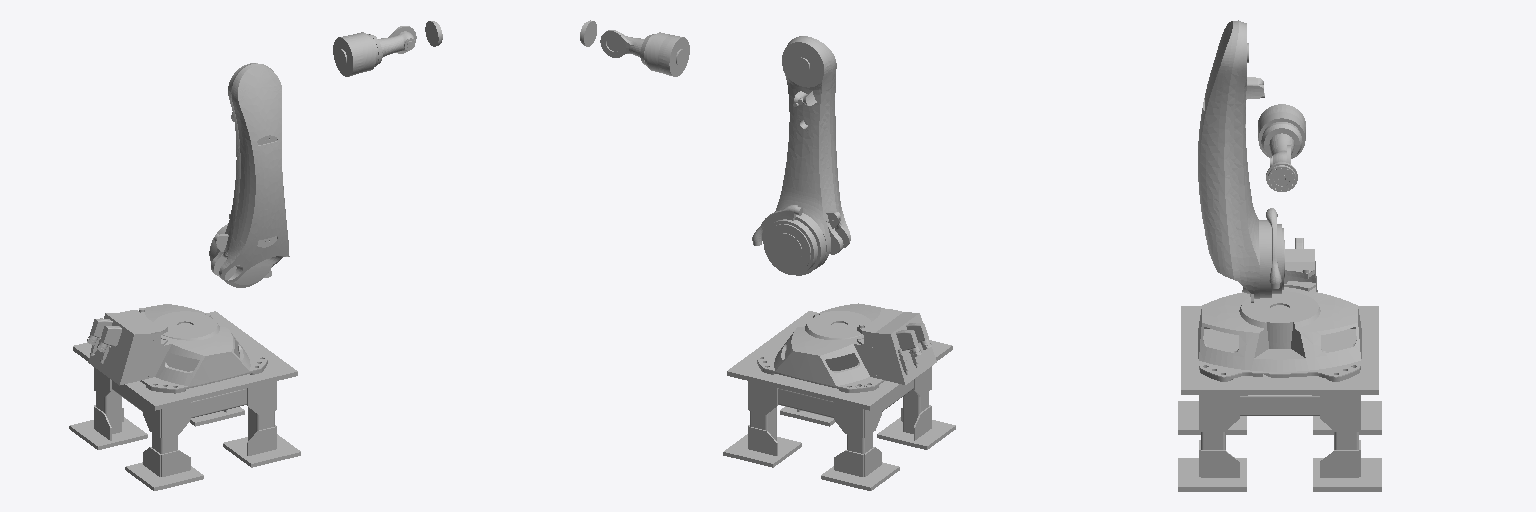
The robot description file, URDF, robot "kuka_kr210_r2700":
<?xml version="1.0" ?>
<robot name="kuka_kr210_r2700" xmlns:xacro="http://wiki.ros.org/xacro">


  <!--URDF FOR BASE LINK -->
  <link name="dekuka">

      <inertial>
        <origin rpy="0 0 0" xyz="-0.017956 -1.5237E-05 0.00015484"/>
        <mass value="6.3154"/>
        <inertia ixx="0.031746" ixy="1.7673E-07" ixz="-6.6558E-06" iyy="0.016686" iyz="1.4304E-07" izz="0.016723"/>
      </inertial>

      <visual>
        <origin rpy="0 0 0" xyz="0.0 0.0 -0.03"/>
        <geometry>
          <mesh filename="package://kuka_kr210_r2700_extra_description/meshes/visual/dekuka.dae"/>
        </geometry>
        <material name="">
          <color rgba="0.75294 0.75294 0.75294 1"/>
        </material>
      </visual>

      <collision>
        <origin rpy="0 0 0" xyz="0.0 0.0 -0.03"/>
        <geometry>
          <mesh filename="package://kuka_kr210_r2700_extra_description/meshes/collision/dekuka.stl"/>
        </geometry>
      </collision>
  </link>
  <link name="base_link">

    <inertial>
      <origin rpy="0 0 0" xyz="-0.027804 0.00039112 0.14035"/>
      <mass value="1572.9"/>
      <inertia ixx="89.282" ixy="-0.47721" ixz="0.85562" iyy="107.51" iyz="0.0067576" izz="172.02"/>
    </inertial>

    <visual>
      <origin rpy="0 0 0" xyz="0 0 0"/>
      <geometry>
        <mesh filename="package://kuka_kr210_r2700_description/meshes/visual/Base_link.dae"/>
      </geometry>
      <material name="">
        <color rgba="0.75294 0.75294 0.75294 1"/>
      </material>
    </visual>

    <collision>
      <origin rpy="0 0 0" xyz="0 0 0"/>
      <geometry>
        <mesh filename="package://kuka_kr210_r2700_description/meshes/collision/base.STL"/>
      </geometry>
    </collision>
    
  </link>
  <!--URDF ROR LINK 1 -->
  <link name="link_1">

    <inertial>
      <origin rpy="0 0 0" xyz="-0.036811 -0.024697 0.56577"/>
      <mass value="1385.5"/>
      <inertia ixx="90.873" ixy="33.809" ixz="17.159" iyy="147.03" iyz="0.063634" izz="168.19"/>
    </inertial>

    <visual>
      <origin rpy="0 0 0" xyz="0 0 -0.35"/>
      <geometry>
        <mesh filename="package://kuka_kr210_r2700_description/meshes/visual/A1.dae"/>
      </geometry>
      <material name="">
        <color rgba="0.75294 0.75294 0.75294 1"/>
      </material>
    </visual>
    
    <collision>
      <origin rpy="0 0 0" xyz="0 0 -0.35"/>
      <geometry>
        <mesh filename="package://kuka_kr210_r2700_description/meshes/collision/A1.STL"/>
      </geometry>
    </collision>

  </link>
  <!-- URDF FOR LINK 2 -->
  <link name="link_2">

    <inertial>
      <origin rpy="0 0 0" xyz="0.016923 -0.19196 0.44751"/>
      <mass value="958.62"/>
      <inertia ixx="180.42" ixy="-0.83462" ixz="0.32549" iyy="177.68" iyz="-20.82" izz="20.495"/>
    </inertial>

    <visual>
      <origin rpy="0 0 0" xyz="-0.35 0.05 -0.668"/>
      <geometry>
        <mesh filename="package://kuka_kr210_r2700_description/meshes/visual/A2.dae"/>
      </geometry>
      <material name="">
        <color rgba="0.75294 0.75294 0.75294 1"/>
      </material>
    </visual>

    <collision>
      <origin rpy="0 0 0" xyz="-0.35 0.05 -0.668"/>
      <geometry>
        <mesh filename="package://kuka_kr210_r2700_description/meshes/collision/A2.STL"/>
      </geometry>
    </collision>

  </link>
  <!-- URDF FOR LINK 3 -->
  <link name="link_3">
    <inertial>
      <origin rpy="0 0 0" xyz="0.18842 0.18344 -0.042799"/>
      <mass value="710.03"/>
      <inertia ixx="11.887" ixy="-0.12154" ixz="-1.3604" iyy="98.805" iyz="-0.056505" izz="96.251"/>
    </inertial>
    
    <visual>
      <origin rpy="0 0 0" xyz="-0.35 0.2 -1.82"/>
      <geometry>
        <mesh filename="package://kuka_kr210_r2700_description/meshes/visual/A3.dae"/>
      </geometry>
      <material name="">
        <color rgba="0.75294 0.75294 0.75294 1"/>
      </material>
    </visual>

    <collision>
      <origin rpy="0 0 0" xyz="-0.35 0.2 -1.82"/>
      <geometry>
        <mesh filename="package://kuka_kr210_r2700_description/meshes/collision/A3.STL"/>
      </geometry>
    </collision>

  </link>
  <!-- URDF FOR LINK 4 -->
  <link name="link_4">
    <inertial>
      <origin rpy="0 0 0" xyz="0.27146 -0.007326 5.2775E-05"/>
      <mass value="173.73"/>
      <inertia ixx="1.8001" ixy="-0.18515" ixz="0.00051232" iyy="5.514" iyz="0.00070469" izz="6.3498"/>
    </inertial>
    <visual>
      <origin rpy="0 0 0" xyz="-1.109 0.0 -1.79"/>
      <geometry>
        <mesh filename="package://kuka_kr210_r2700_description/meshes/visual/A4.dae"/>
      </geometry>
      <material name="">
        <color rgba="0.75294 0.75294 0.75294 1"/>
      </material>
    </visual>
    <collision>
      <origin rpy="0 0 0" xyz="-1.109 0.0 -1.79"/>
      <geometry>
        <mesh filename="package://kuka_kr210_r2700_description/meshes/collision/A4.STL"/>
      </geometry>
    </collision>
  </link>
  <!-- URDF FOR LINK 5 -->
  <link name="link_5">

    <inertial>
      <origin rpy="0 0 0" xyz="0.04379 0.025984 3.5491E-07"/>
      <mass value="72.17"/>
      <inertia ixx="0.3938" ixy="-0.085332" ixz="1.7223E-06" iyy="0.68945" iyz="-7.0292E-06" izz="0.67292"/>
    </inertial>

    <visual>
      <origin rpy="0 0 0" xyz="-1.547 0.0 -1.78"/>
      <geometry>
        <mesh filename="package://kuka_kr210_r2700_description/meshes/visual/A5.dae"/>
      </geometry>
      <material name="">
        <color rgba="0.75294 0.75294 0.75294 1"/>
      </material>
    </visual>

    <collision>
      <origin rpy="0 0 0" xyz="-1.547 0.0 -1.78"/>
      <geometry>
        <mesh filename="package://kuka_kr210_r2700_description/meshes/collision/A5.STL"/>
      </geometry>
    </collision>

  </link>
  <!-- URDF FOR LINK 6 -->
  <link name="link_6">

    <inertial>
      <origin rpy="0 0 0" xyz="-0.017956 -1.5237E-05 0.00015484"/>
      <mass value="6.3154"/>
      <inertia ixx="0.031746" ixy="1.7673E-07" ixz="-6.6558E-06" iyy="0.016686" iyz="1.4304E-07" izz="0.016723"/>
    </inertial>

    <visual>
      <origin rpy="0 0 0" xyz="-1.747 0.0 -1.78"/>
      <geometry>
        <mesh filename="package://kuka_kr210_r2700_description/meshes/visual/A6.dae"/>
      </geometry>
      <material name="">
        <color rgba="0.75294 0.75294 0.75294 1"/>
      </material>
    </visual>

    <collision>
      <origin rpy="0 0 0" xyz="-1.747 0.0 -1.78"/>
      <geometry>
        <mesh filename="package://kuka_kr210_r2700_description/meshes/collision/A6.STL"/>
      </geometry>
    </collision>
  </link>
  <!-- URDF FOR TOOL  -->
  <link name="tool_link">

    <inertial>
      <origin rpy="0 0 0" xyz="-0.017956 -1.5237E-05 0.00015484"/>
      <mass value="6.3154"/>
      <inertia ixx="0.031746" ixy="1.7673E-07" ixz="-6.6558E-06" iyy="0.016686" iyz="1.4304E-07" izz="0.016723"/>
    </inertial>

    <visual>
      <origin rpy="0 0 0" xyz="-2.0 0.0 -1.42"/>
      <geometry>
        <mesh filename="package://kuka_kr210_r2700_description/meshes/visual/tool.dae"/>
      </geometry>
      <material name="">
        <color rgba="0.75294 0.75294 0.75294 1"/>
      </material>
    </visual>

    <collision>
      <origin rpy="0 0 0" xyz="-2.0 0.0 -1.42"/>
      <geometry>
        <mesh filename="package://kuka_kr210_r2700_description/meshes/collision/SPINDLE.STL"/>
      </geometry>
    </collision>
  </link>
  <!-- SETUP TF for robot -->
   <joint name="de" type="fixed">
    <origin rpy="0 0  0" xyz="0 0 0"/>
    <parent link="dekuka"/>
    <child link="base_link"/>
  </joint>
  <joint name="joint_a1" type="revolute">
    <origin rpy="0 0 0" xyz="-0.00262 0.00097586 0.33099"/>
    <parent link="base_link"/>
    <child link="link_1"/>
    <axis xyz="0 0 1"/>
    <limit effort="0" lower="-3.228859205" upper="3.228859205" velocity="2.146755039"/>
  </joint>

  <joint name="joint_a2" type="revolute">
    <origin rpy="0 0 0" xyz="0.35277 -0.037476 0.3192"/>
    <parent link="link_1"/>
    <child link="link_2"/>
    <axis xyz="0 1 0"/>
    <limit effort="0" lower="-0.785398185" upper="1.483529905" velocity="2.007128695"/>
  </joint>

  <joint name="joint_a3" type="revolute">
    <origin rpy="0 0 0" xyz="0 -0.1475 1.15"/>
    <parent link="link_2"/>
    <child link="link_3"/>
    <axis xyz="0 1 0"/>
    <limit effort="0" lower="-3.66519153" upper="1.134464045" velocity="1.954768816"/>
  </joint>

  <joint name="joint_a4" type="revolute">
    <origin rpy="0 0 0" xyz="0.75795 0.194 -0.041"/>
    <parent link="link_3"/>
    <child link="link_4"/>
    <axis xyz="1 0 0"/>
    <limit effort="0" lower="-6.10865255" upper="6.10865255" velocity="3.124139447"/>
  </joint>

  <joint name="joint_a5" type="revolute">
    <origin rpy="0 0 0" xyz="0.4479 0 0"/>
    <parent link="link_4"/>
    <child link="link_5"/>
    <axis xyz="0 1 0"/>
    <limit effort="0" lower="-2.181661625" upper="2.181661625" velocity="3.001966396"/>
  </joint>
  
  <joint name="joint_a6" type="revolute">
    <origin rpy="0 0 0" xyz="0.1925 0 0"/>
    <parent link="link_5"/>
    <child link="link_6"/>
    <axis xyz="1 0 0"/>
    <limit effort="0" lower="-6.10865255" upper="6.10865255" velocity="3.822271167"/>
  </joint>

  <joint name="tool" type="fixed">
    <origin rpy="0 0 0" xyz="0.20 0 -0.37"/>
    <parent link="link_6"/>
    <child link="tool_link"/>
  </joint>


  
</robot>

--- Facts derived from the render (not from the file) ---
The picture shows the robot from 3 angles, left to right: view 1: azimuth 30°, elevation 25°; view 2: azimuth 150°, elevation 25°; view 3: azimuth 270°, elevation 25°; orthographic projection.
Model kuka_kr210_r2700 with 9 links and 8 joints (6 revolute, 2 fixed), rooted at dekuka, posed every joint at zero.
Visible links, largest first — view 1: dekuka, link_2, base_link, link_4; view 2: dekuka, link_2, base_link, link_4; view 3: dekuka, link_2, base_link, link_4, link_6.
Link boxes in pixels (left/top/right/bottom): dekuka: left=69, top=311, right=300, bottom=490; link_2: left=209, top=63, right=289, bottom=287; base_link: left=87, top=304, right=267, bottom=393; link_4: left=333, top=26, right=416, bottom=76; dekuka: left=723, top=311, right=955, bottom=490; link_2: left=752, top=36, right=850, bottom=275; base_link: left=757, top=303, right=936, bottom=392; link_4: left=600, top=30, right=689, bottom=76; dekuka: left=1178, top=306, right=1381, bottom=491; link_2: left=1198, top=20, right=1284, bottom=302; base_link: left=1198, top=238, right=1361, bottom=381; link_4: left=1258, top=104, right=1305, bottom=166; link_6: left=1266, top=162, right=1297, bottom=191.
Bounding box of the posed robot: 2.4 × 1.03 × 2.53 m (x, y, z).
Meshes: 9 distinct files referenced, 5 mesh visuals loaded (5 Collada DAE); not drawn: 4 (reference not matched to a file when rendering).